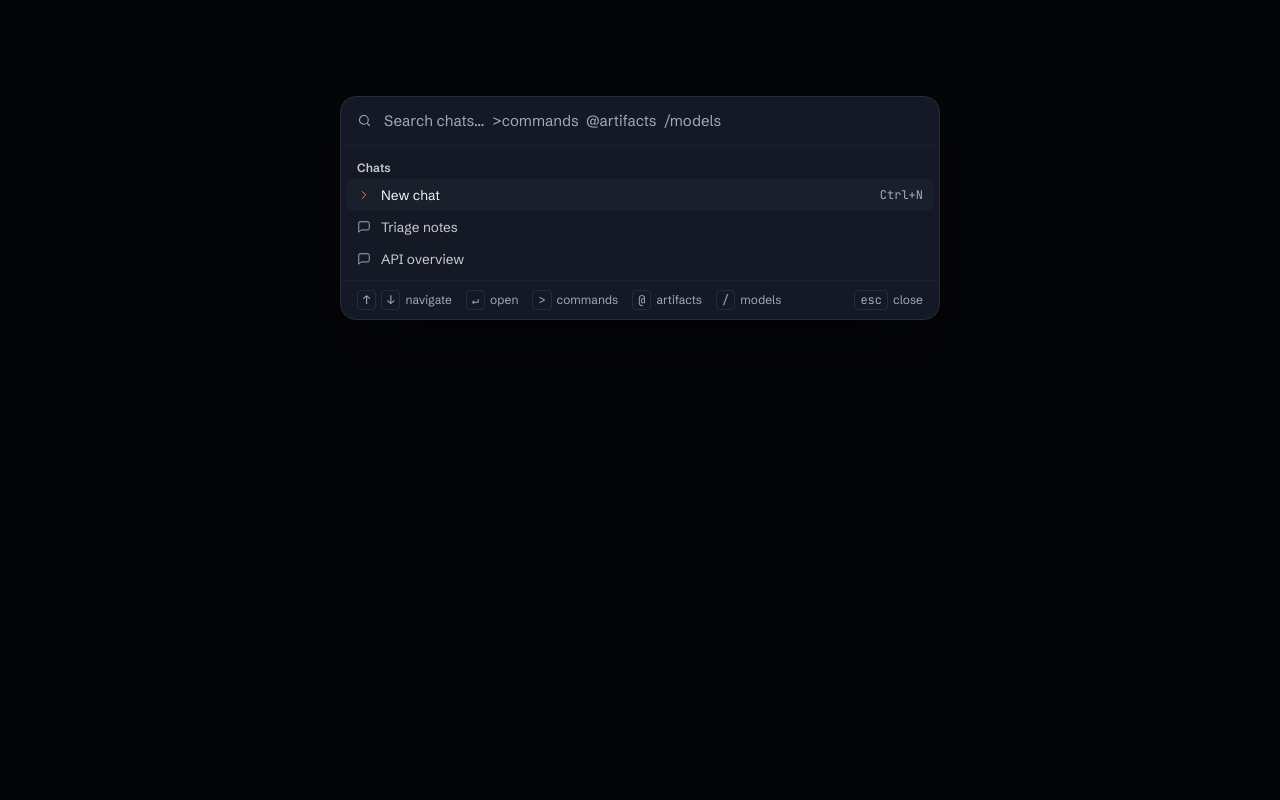
Scenario: CommandPalette prefix modes › @ lists artifacts with a size tail
Type "@" into the search field at (652, 121), box [382, 110, 923, 132]
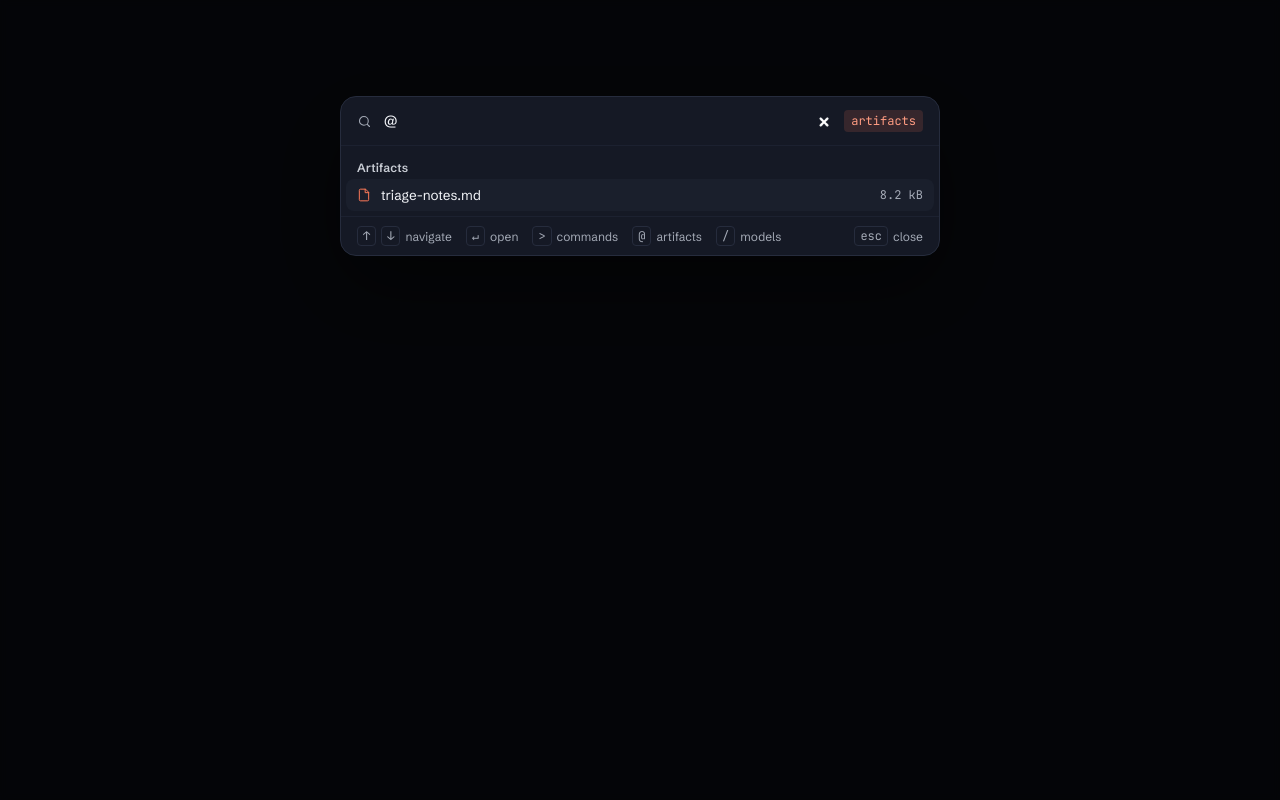
Check: the option "triage-notes.md 8.2 kB" is shown, box [346, 179, 934, 211]
Check: the text "8.2 kB" is shown, box [880, 187, 923, 203]
